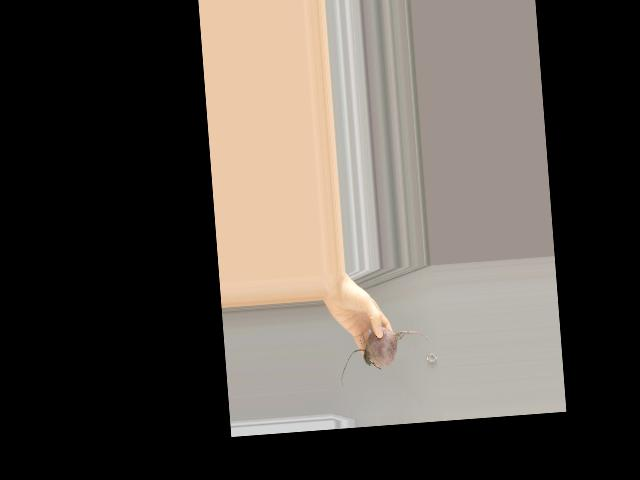beet: (337, 323, 431, 386)
